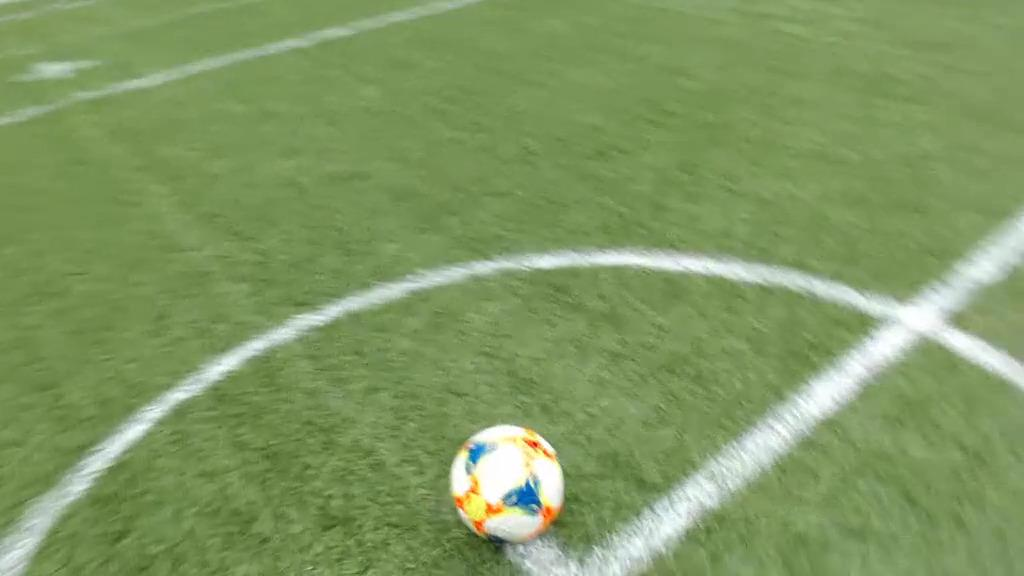ball: (451, 423, 565, 540)
